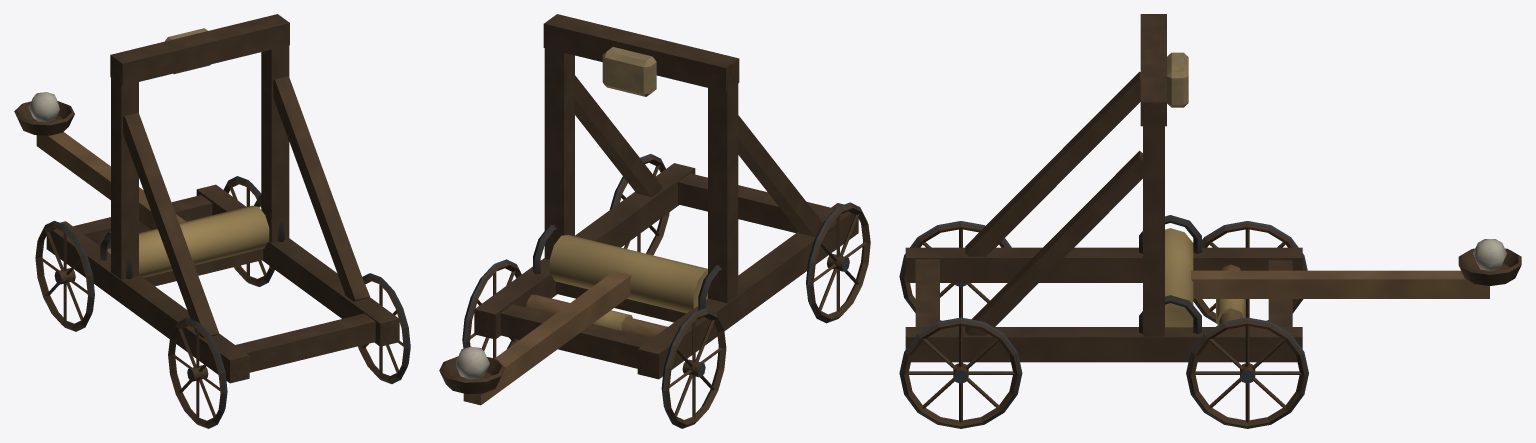
Rendered from catapult_cs.obj.
3 renders of one model, left to right at view 1: azimuth 30°, elevation 25°; view 2: azimuth 150°, elevation 25°; view 3: azimuth 270°, elevation 25°, orthographic. The views are drawn at different scales.
Visible parts, largest first — view 1: catapult_cs, catapult_cs_arm, catapult_cs_stone; view 2: catapult_cs, catapult_cs_arm, catapult_cs_stone; view 3: catapult_cs, catapult_cs_arm, catapult_cs_stone.
Part boxes in pixels (x1,y1,x2,y2): catapult_cs: [35, 14, 410, 428]; catapult_cs_arm: [14, 101, 185, 229]; catapult_cs_stone: [28, 92, 59, 121]; catapult_cs: [462, 14, 870, 428]; catapult_cs_arm: [439, 271, 631, 405]; catapult_cs_stone: [456, 346, 489, 379]; catapult_cs: [899, 14, 1308, 428]; catapult_cs_arm: [1191, 248, 1521, 298]; catapult_cs_stone: [1473, 239, 1507, 271].
Bounding box in the file's own units: 2.23 × 3.23 × 5.64.
1 material, 1 textured.
